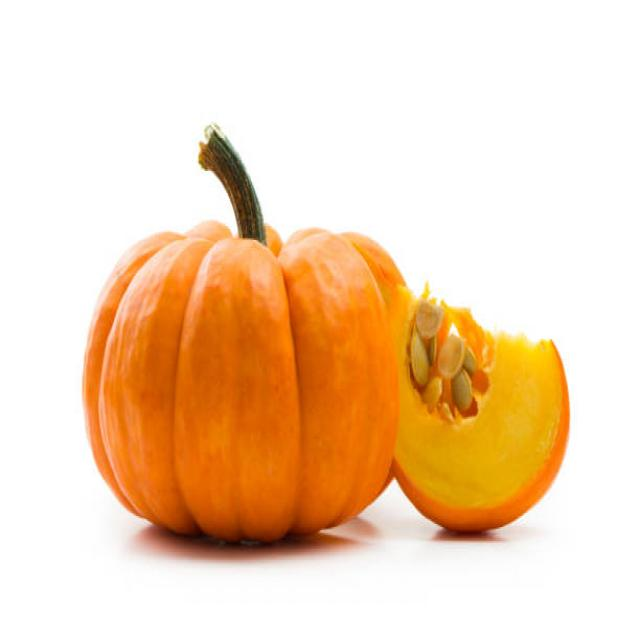Pumpkin: (75, 199, 400, 544), (406, 306, 574, 540)
